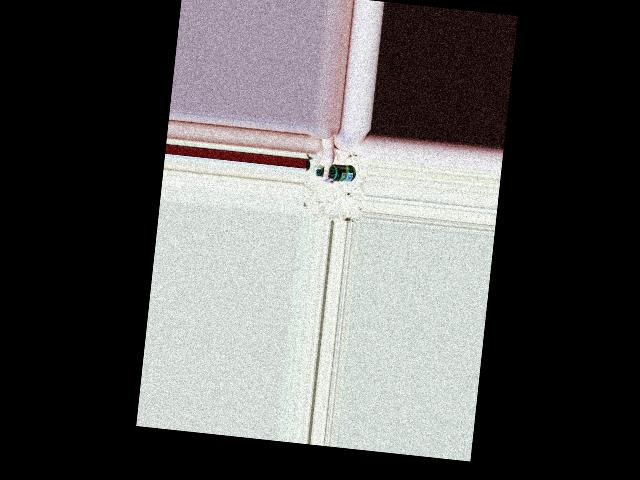beer: (314, 160, 356, 182)
